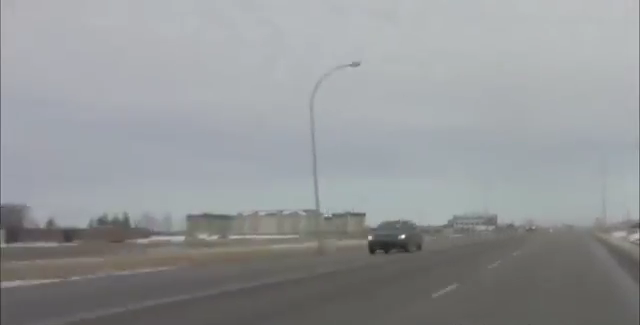bus: (367, 218, 424, 257)
